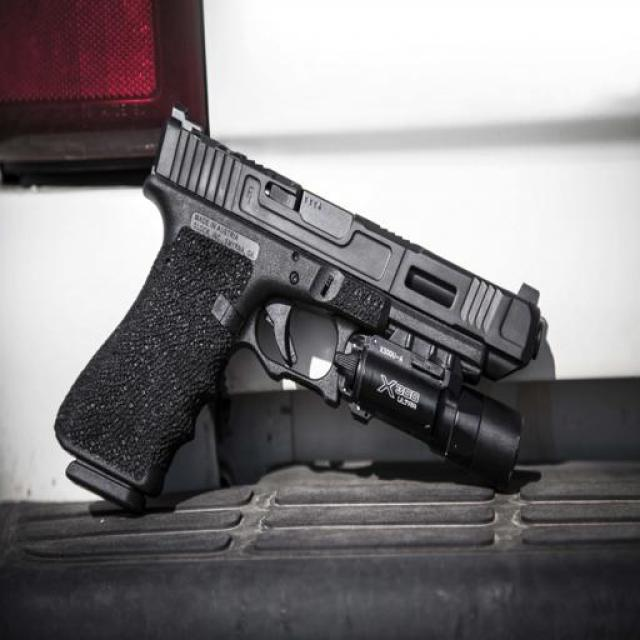pistol: (53, 91, 548, 515)
